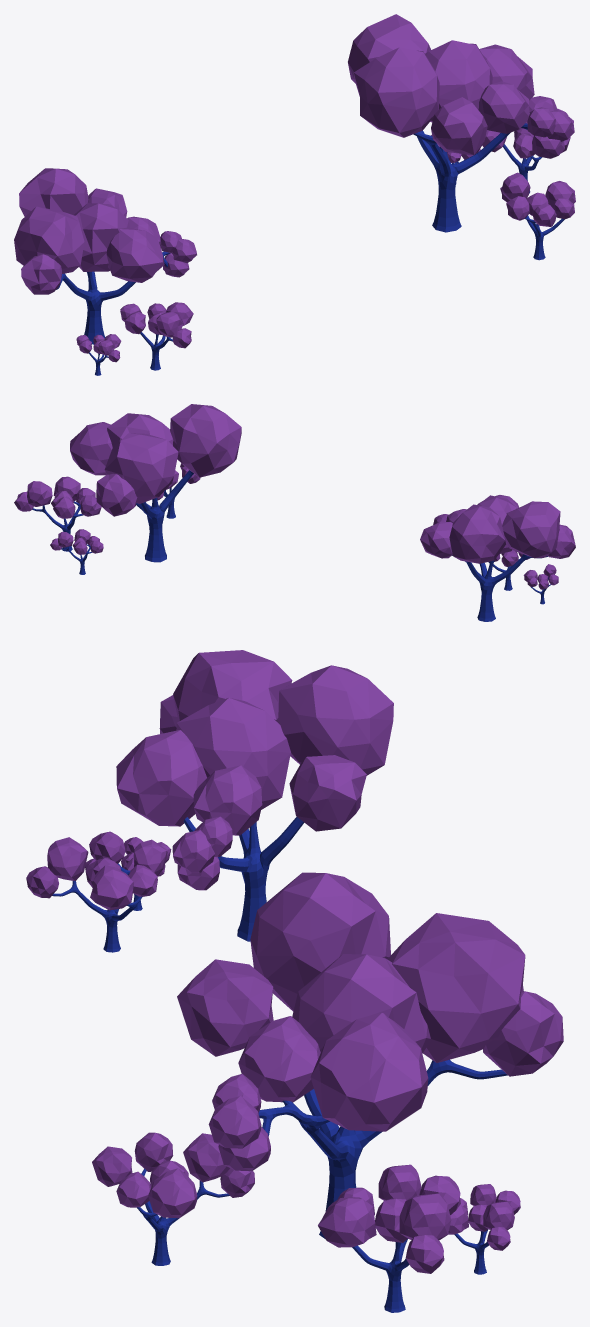
Rendered from trees.glb.
3 views of the same model, one above another, from view 1: azimuth 30°, elevation 25°; view 2: azimuth 150°, elevation 25°; view 3: azimuth 270°, elevation 25° (orthographic). The views are drawn at different scales.
Visible parts, largest first — view 1: Icosphere.027, Icosphere, Icosphere.030, Plane.004, Icosphere.024, Icosphere.002, Icosphere.004, Icosphere.029, Icosphere.001, Icosphere.028, Icosphere.025, Plane.003 (+10 smaller); view 2: Icosphere.027, Icosphere.024, Icosphere, Icosphere.004, Icosphere.025, Plane.004, Icosphere.026, Icosphere.030, Plane.003, Icosphere.006, Icosphere.003, Icosphere.001 (+5 smaller); view 3: Icosphere.024, Icosphere.027, Icosphere.025, Icosphere.004, Icosphere.030, Icosphere.001, Icosphere.029, Icosphere.002, Icosphere, Icosphere.028, Plane.004, Icosphere.006 (+27 smaller).
Part boxes in pixels (box(x1,y1,x2,y2)): Icosphere.027: box(353, 47, 439, 137); Icosphere: box(14, 206, 84, 273); Icosphere.030: box(425, 40, 492, 122); Plane.004: box(413, 123, 527, 232); Icosphere.024: box(348, 14, 430, 83); Icosphere.002: box(106, 227, 164, 282); Icosphere.004: box(19, 168, 88, 216); Icosphere.029: box(431, 97, 487, 154); Icosphere.001: box(73, 203, 129, 271); Icosphere.028: box(478, 81, 529, 133); Icosphere.025: box(479, 44, 534, 100); Plane.003: box(56, 251, 170, 344); Icosphere.027: box(170, 404, 241, 477); Icosphere.024: box(104, 433, 178, 503); Icosphere: box(502, 501, 560, 558); Icosphere.004: box(449, 504, 505, 563); Icosphere.025: box(70, 422, 112, 475); Plane.004: box(136, 470, 193, 562); Icosphere.026: box(96, 473, 137, 516); Icosphere.030: box(107, 413, 173, 447); Plane.003: box(452, 554, 547, 621); Icosphere.006: box(420, 521, 452, 558); Icosphere.003: box(547, 524, 575, 558); Icosphere.001: box(478, 495, 516, 553); Icosphere.024: box(387, 913, 525, 1062); Icosphere.027: box(250, 872, 390, 1011); Icosphere.025: box(310, 1013, 428, 1131); Icosphere.004: box(278, 665, 393, 775); Icosphere.030: box(292, 954, 430, 1053); Icosphere.001: box(176, 698, 290, 809); Icosphere.029: box(177, 959, 273, 1056); Icosphere.002: box(116, 730, 206, 826); Icosphere: box(173, 650, 292, 722); Icosphere.028: box(238, 1016, 320, 1102); Plane.004: box(258, 1059, 507, 1238); Icosphere.006: box(289, 755, 366, 831).
Size of the model in its own units: 25.8 by 7.93 by 11.97.
